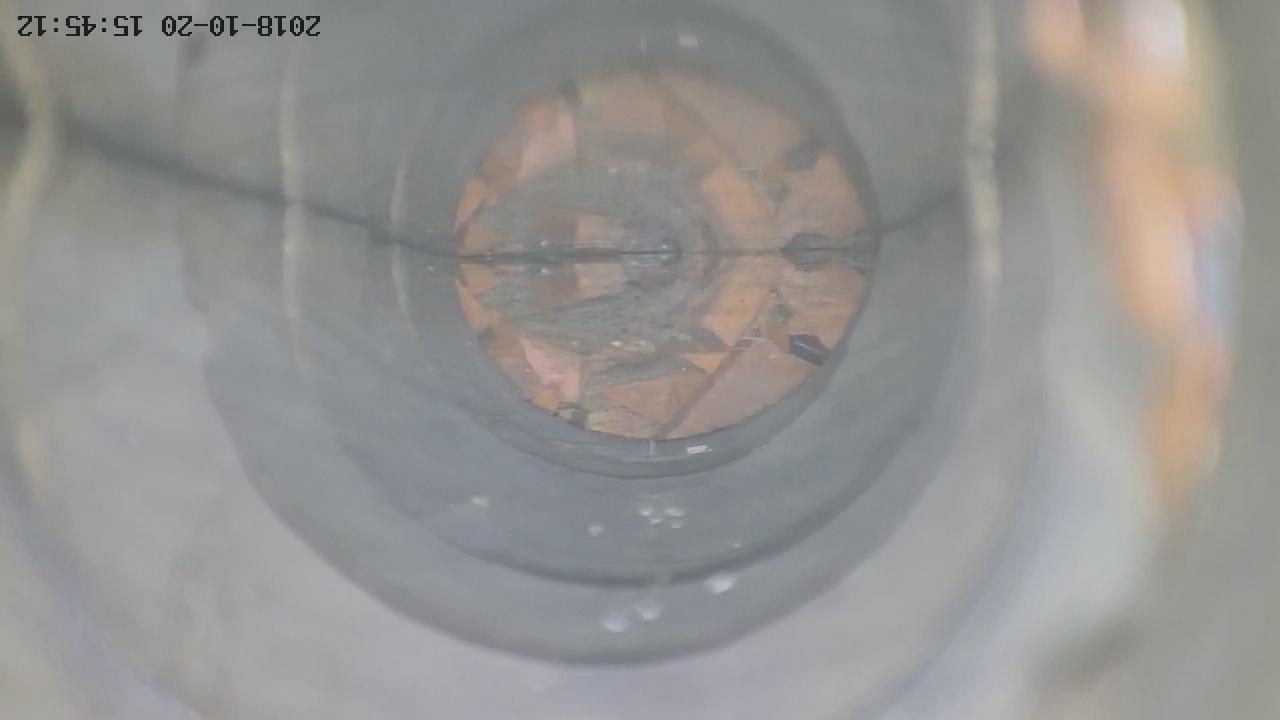CQBG: (454, 251, 872, 440)
